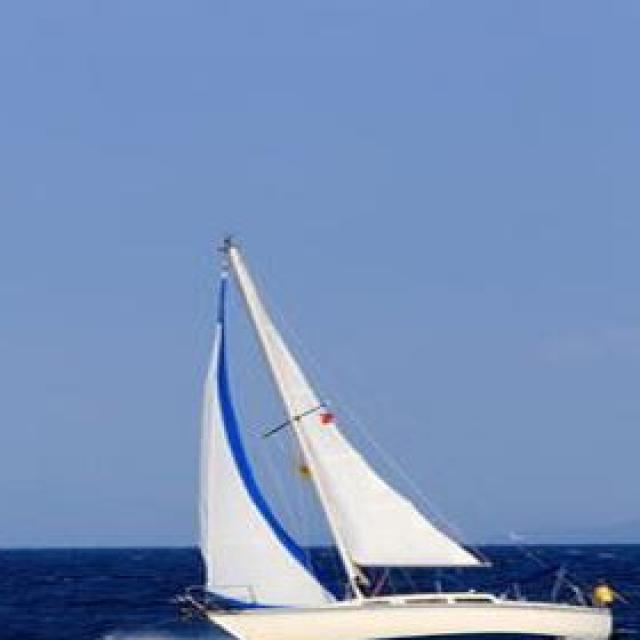sailboat: (171, 192, 606, 640)
